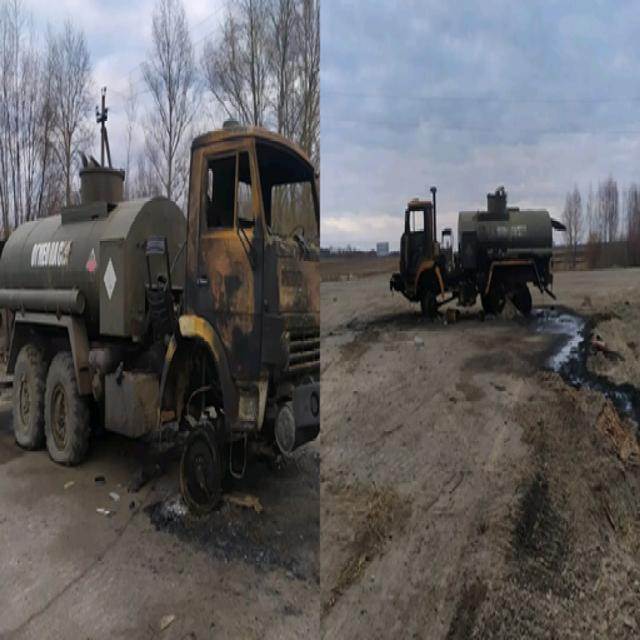TRUCK: (0, 116, 319, 511), (388, 178, 560, 331)
